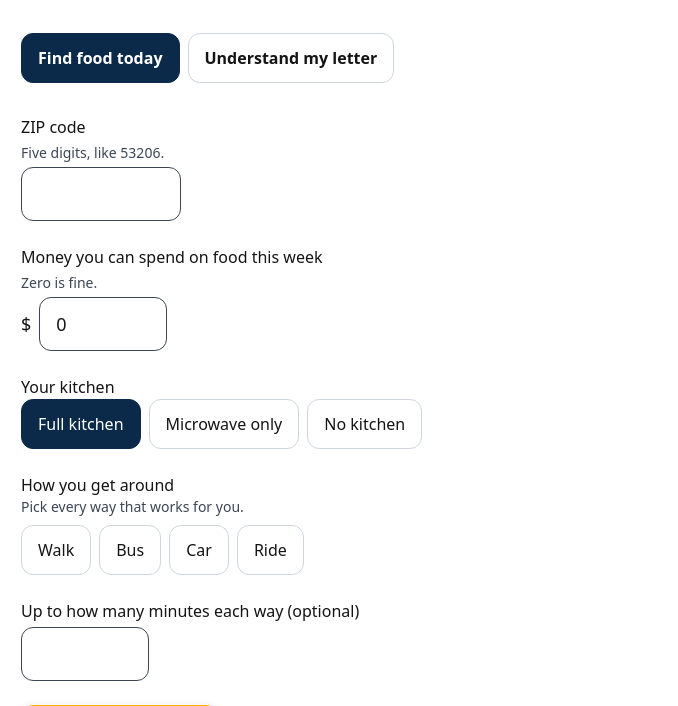
Scenario: finish pass: print, links, focus, axe › does not offer Print on a no-match
In the field labelled "ZIP code": (101, 194) [21,167,181,221], type "53206"
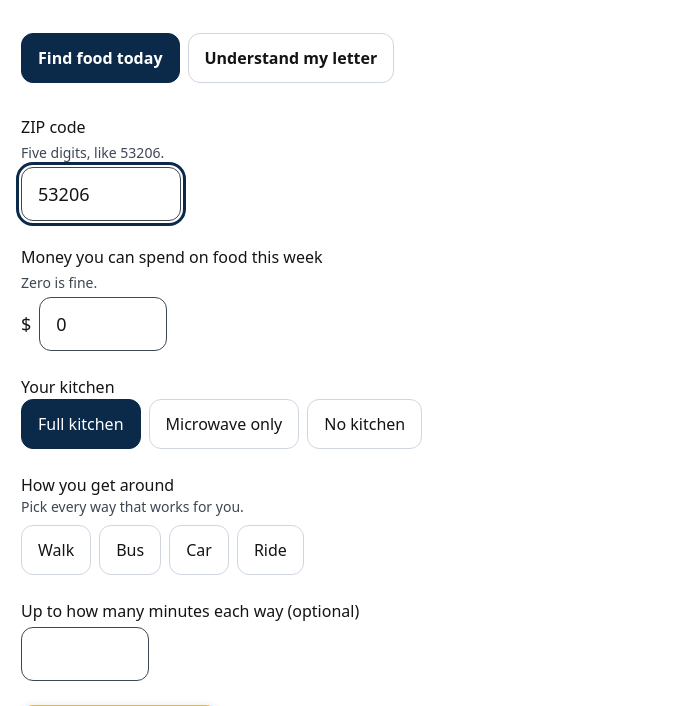
Click the checkbox labelled "Bus": (130, 550) [99,525,161,575]
(page scrolled)
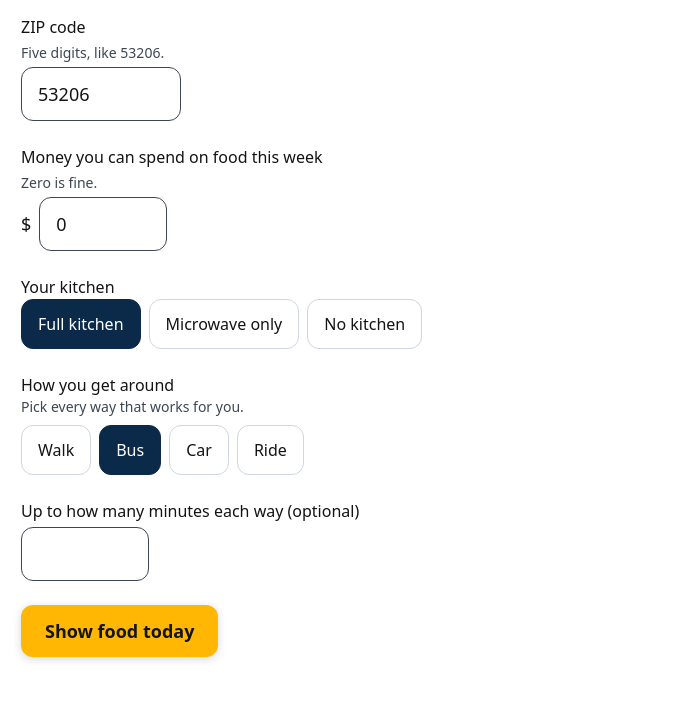
Click the button "Show food today": (120, 631) [21,605,218,657]
(page scrolled)
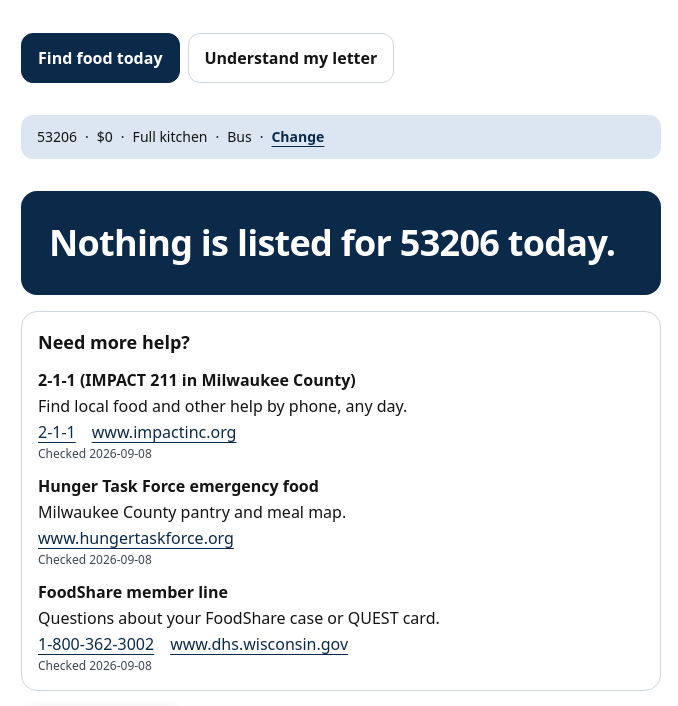
expect the heading "Nothing is listed for 53206 today." is shown: met, box [49,223,633,263]
